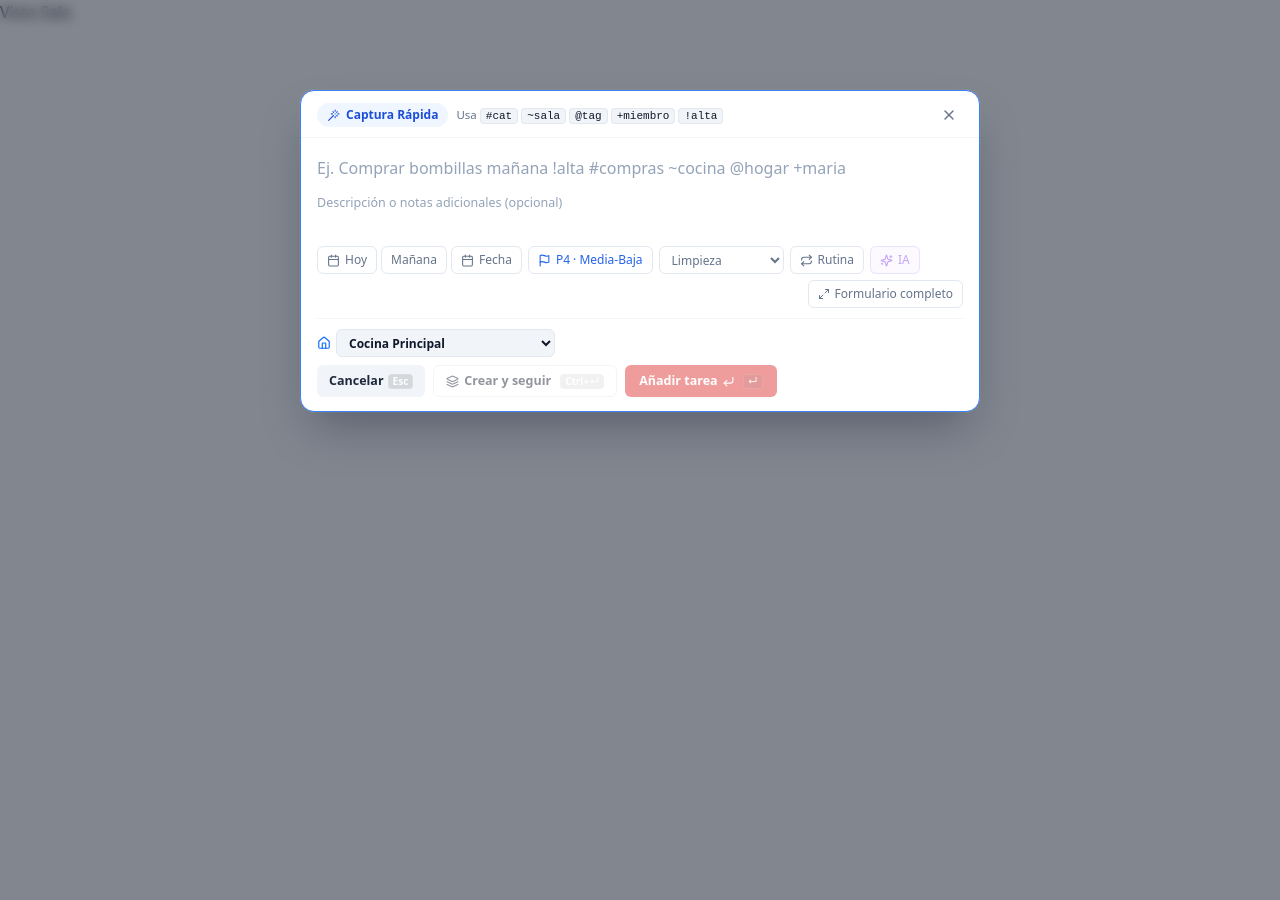
it: GlobalQuickAddModal Component (Todoist Desktop quick_add) › renderiza con atributos ARIA accesibles (role='dialog', aria-modal='true'), deduce la sala de la ruta y detecta tokens NLP en vivo
This screenshot has width=1280, height=900.
Expected: the dialog is shown, [300, 90, 980, 412]
Expected: the dropdown with test id "global-quick-add-room-select" shows "Cocina Principal", [336, 329, 555, 357]
Escribir entrada rica con NLP
Replace the text in the field with test id "global-quick-add-title-input" with "Comprar bombillas LED mañana !alta #compras ~salon @hogar +maria": coordinates (640, 168) [317, 152, 963, 184]
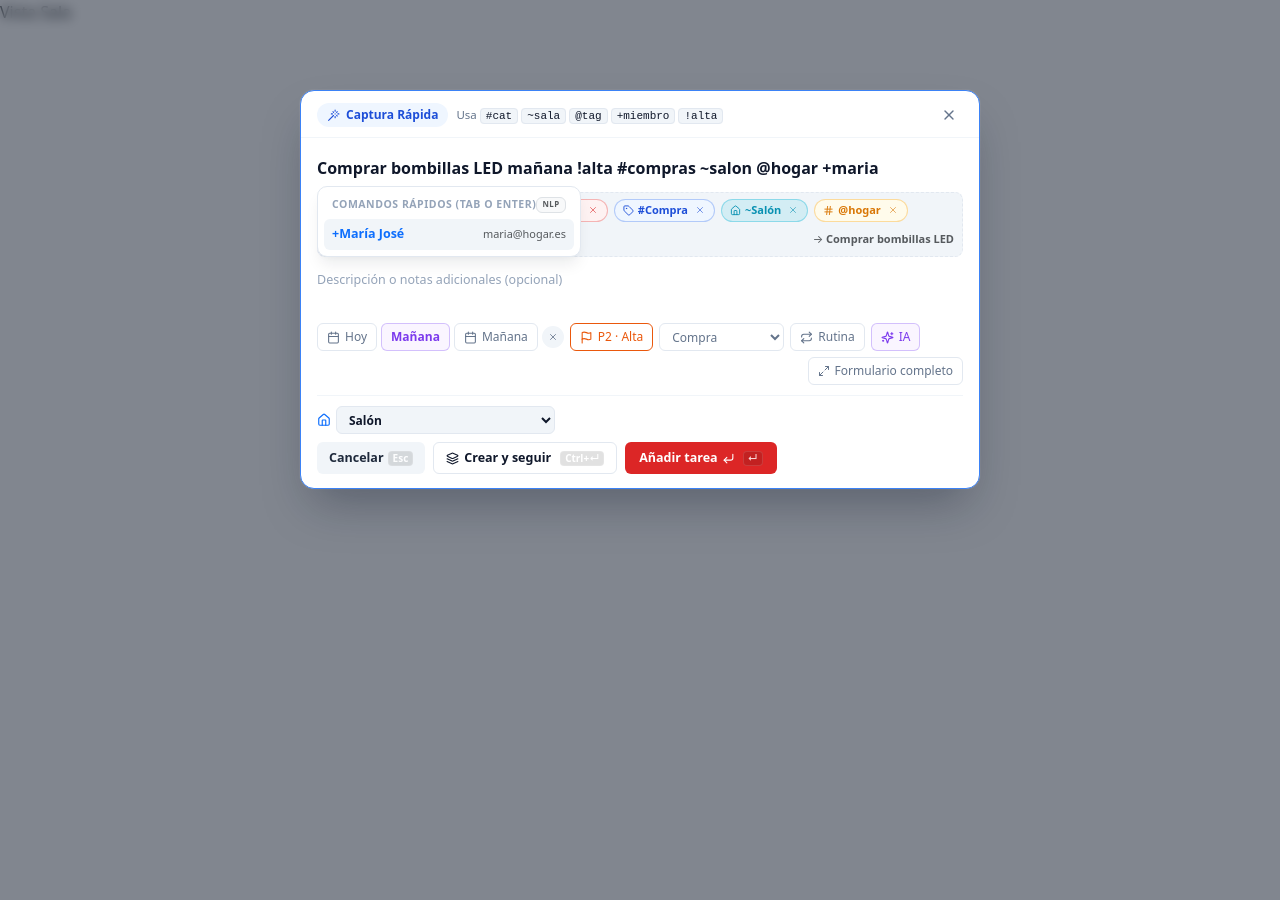
Expected: the element with test id "global-quick-add-nlp-tokens" is shown, [317, 192, 963, 257]
Expected: the element with test id "global-nlp-token-date" is shown, [411, 199, 506, 222]
Expected: the element with test id "global-nlp-token-priority" reads "P2 · Alta", [536, 202, 581, 217]
